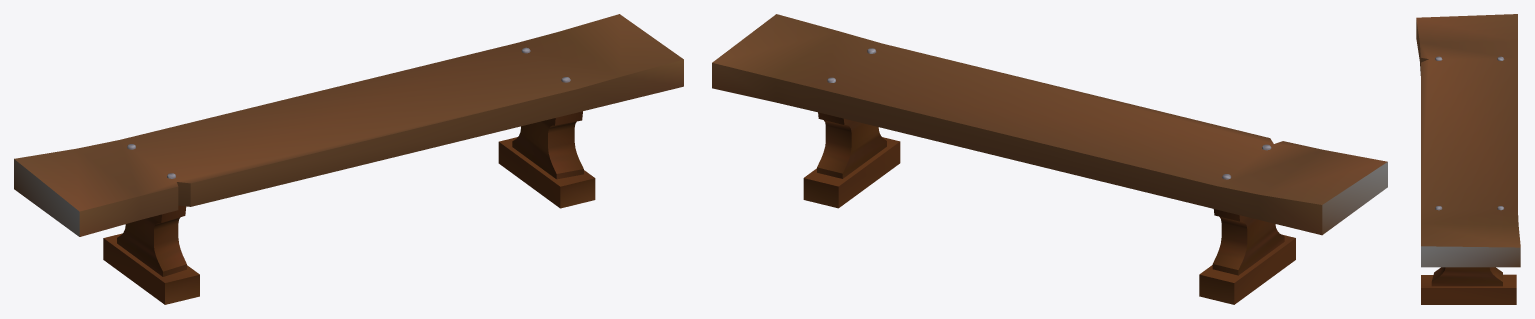
The model's file is bench.glb.
3 renders of one model, left to right at view 1: azimuth 30°, elevation 25°; view 2: azimuth 150°, elevation 25°; view 3: azimuth 270°, elevation 25°, orthographic. The views are drawn at different scales.
Visible parts, largest first — view 1: bench; view 2: bench; view 3: bench.
Part boxes in pixels (x1,y1,x2,y2): bench: (14,14,683,304); bench: (712,14,1387,304); bench: (1416,14,1520,304).
Size of the model in its own units: 2.78 by 0.5332 by 0.5343.
